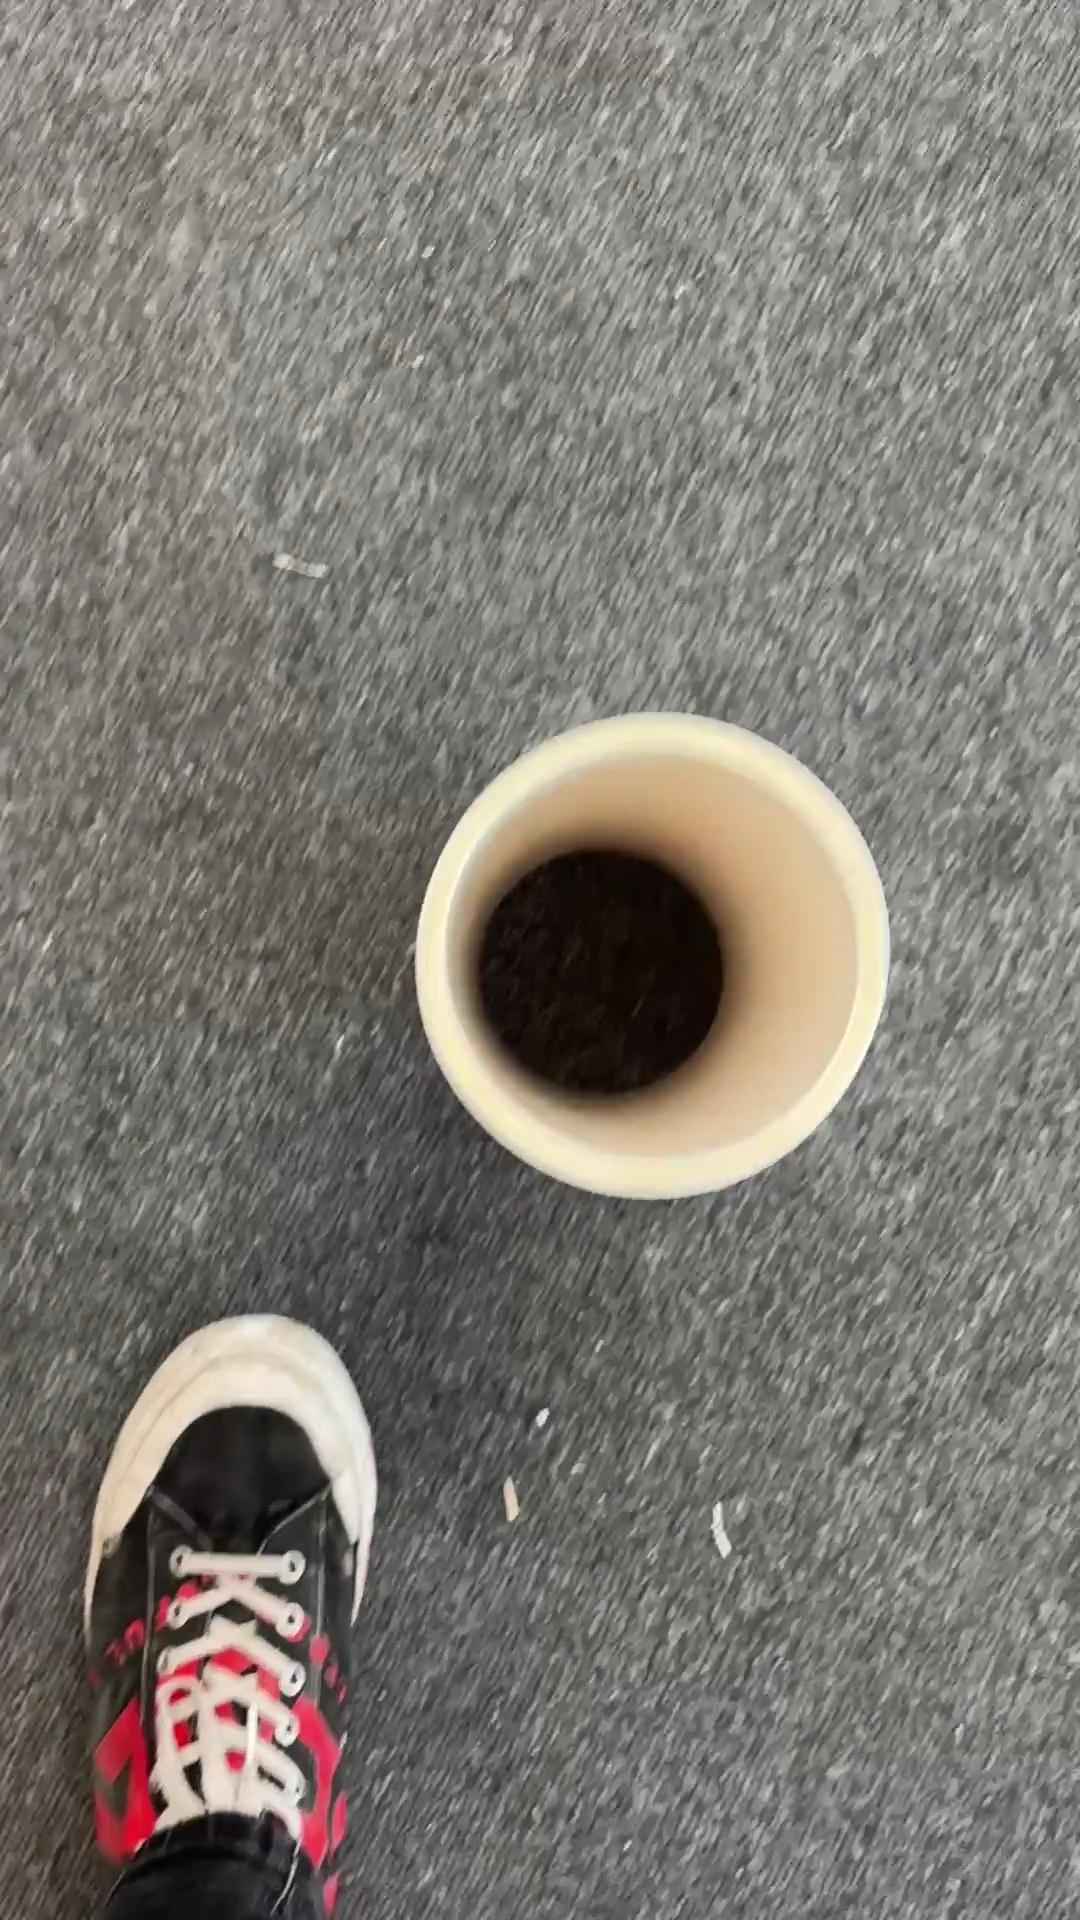CORAL: (410, 707, 891, 1203)
